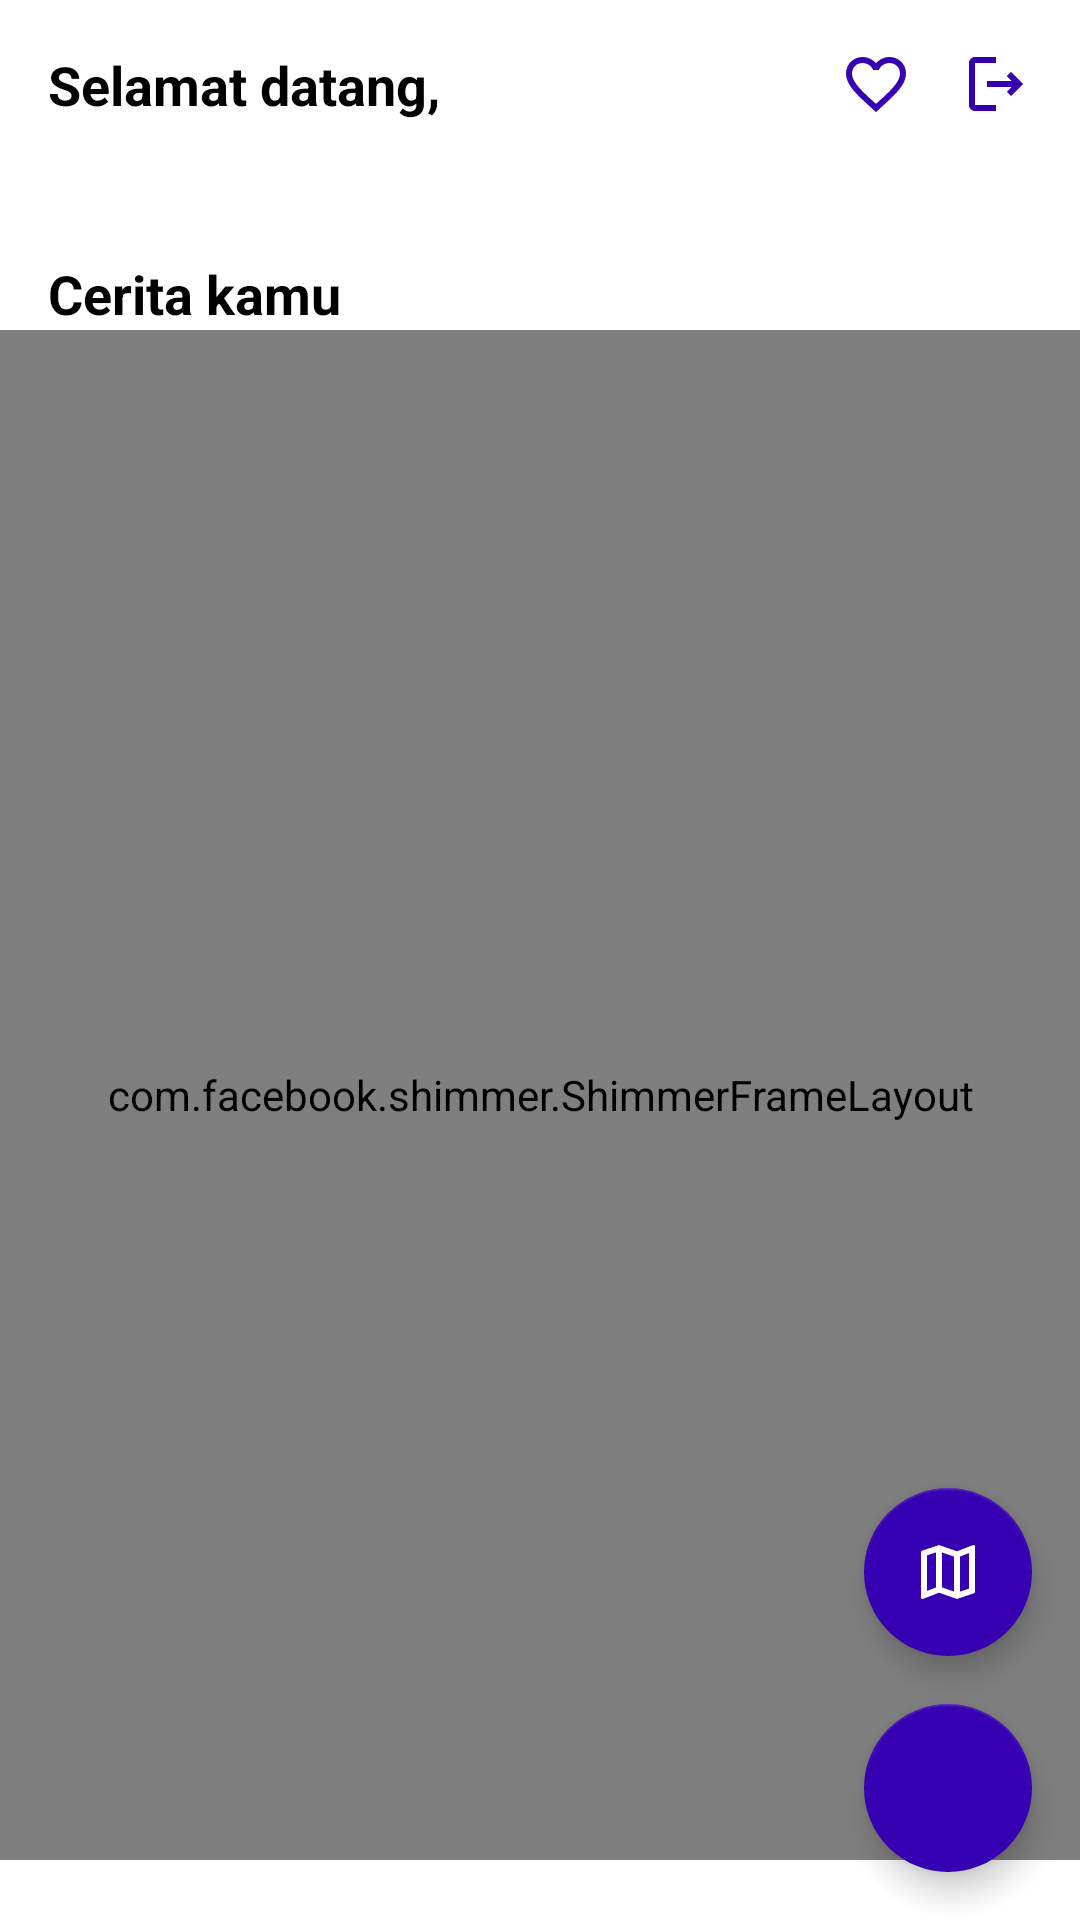

Screen size 1080 x 1920. Icon name, then its center in pixels as (x,y):
favorite: (876,84)
map: (948,1572)
